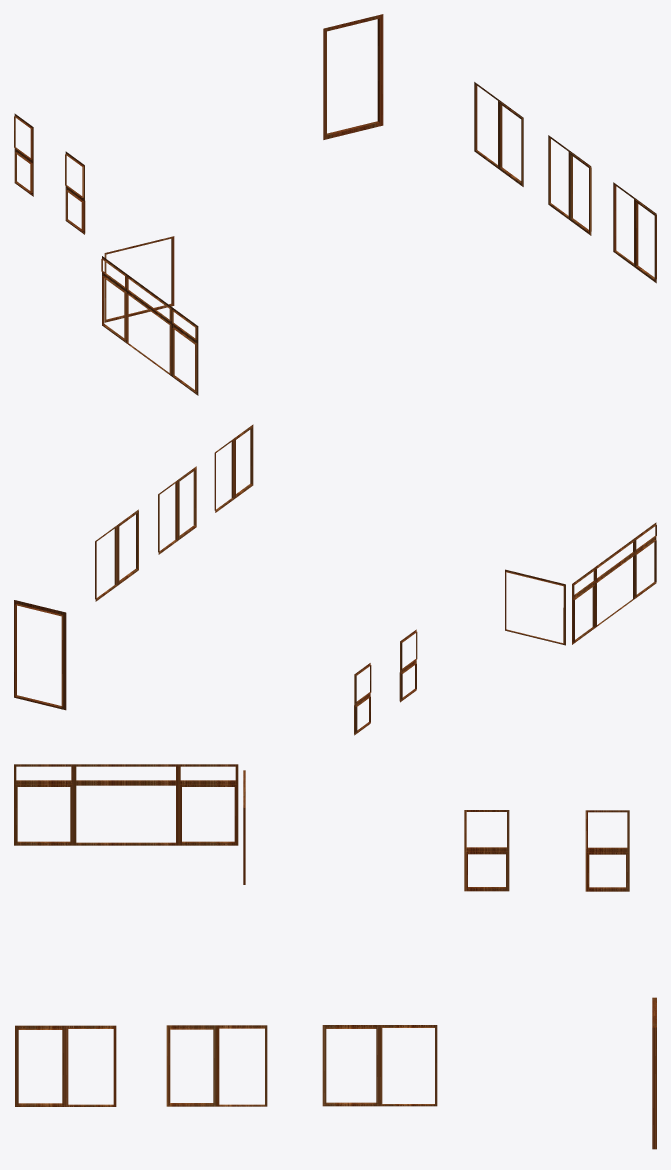
The model's file is win.FBX.
3 views of the same model, one above another, from view 1: azimuth 30°, elevation 25°; view 2: azimuth 150°, elevation 25°; view 3: azimuth 270°, elevation 25° (orthographic). The views are drawn at different scales.
Visible parts, largest first — view 1: Win006, Win008, Win003, Win005, Win004, Win007, Win001, Win002; view 2: Win006, Win008, Win003, Win005, Win004, Win007, Win001, Win002; view 3: Win006, Win003, Win005, Win004, Win002, Win001, Win008.
Part boxes in pixels (<box>): Win006: <box>101,256,198,395</box>; Win008: <box>323,14,383,139</box>; Win003: <box>474,82,523,186</box>; Win005: <box>613,182,656,283</box>; Win004: <box>548,135,591,235</box>; Win007: <box>104,236,174,322</box>; Win001: <box>65,151,85,234</box>; Win002: <box>14,113,33,196</box>; Win006: <box>572,522,656,644</box>; Win008: <box>14,600,66,710</box>; Win003: <box>95,509,138,601</box>; Win005: <box>214,424,253,512</box>; Win004: <box>158,466,196,554</box>; Win007: <box>505,569,565,645</box>; Win001: <box>399,629,417,702</box>; Win002: <box>354,663,371,735</box>; Win006: <box>14,764,238,845</box>; Win003: <box>322,1025,437,1106</box>; Win005: <box>15,1025,116,1106</box>; Win004: <box>166,1025,267,1106</box>; Win002: <box>585,810,629,891</box>; Win001: <box>464,810,509,891</box>; Win008: <box>652,997,656,1149</box>.
Bounding box in the file's own units: 1041 × 240 × 1075.
